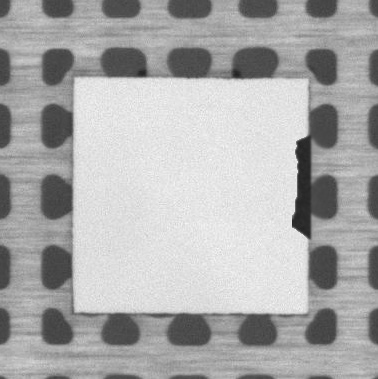DIE_BROKEN: (290, 131, 313, 238)
